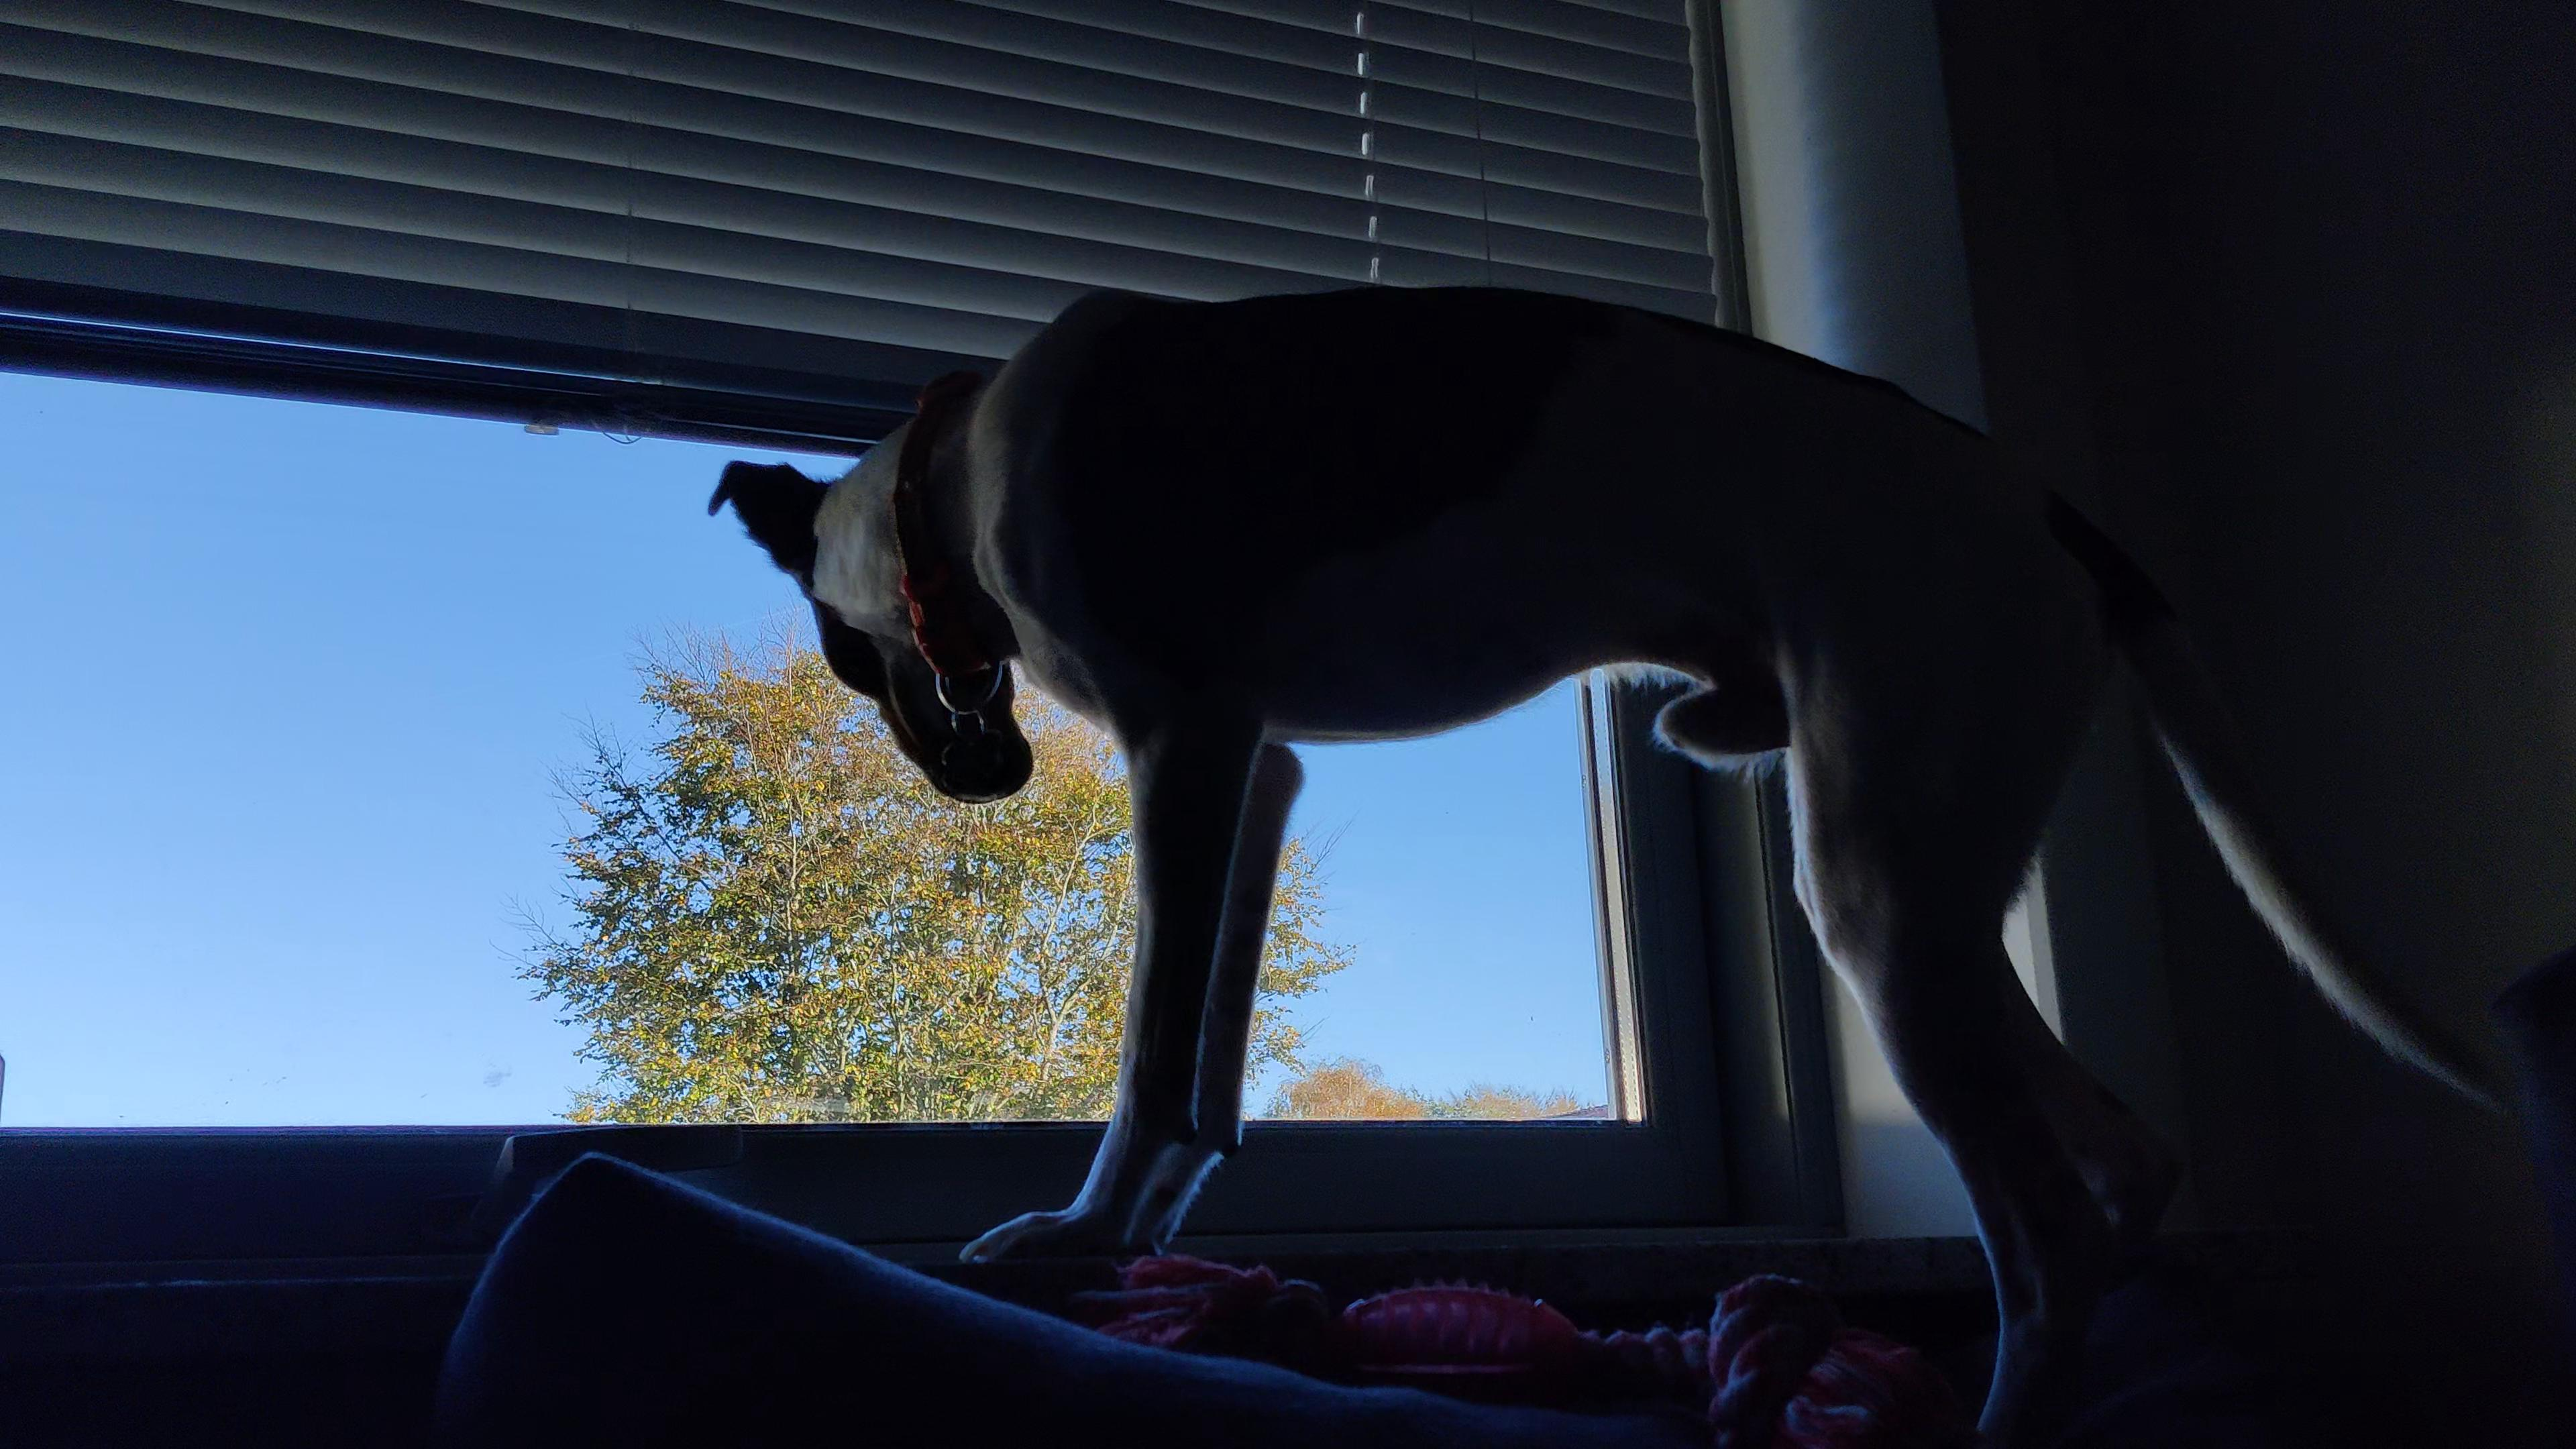Dog: (697, 269, 2518, 1449)
